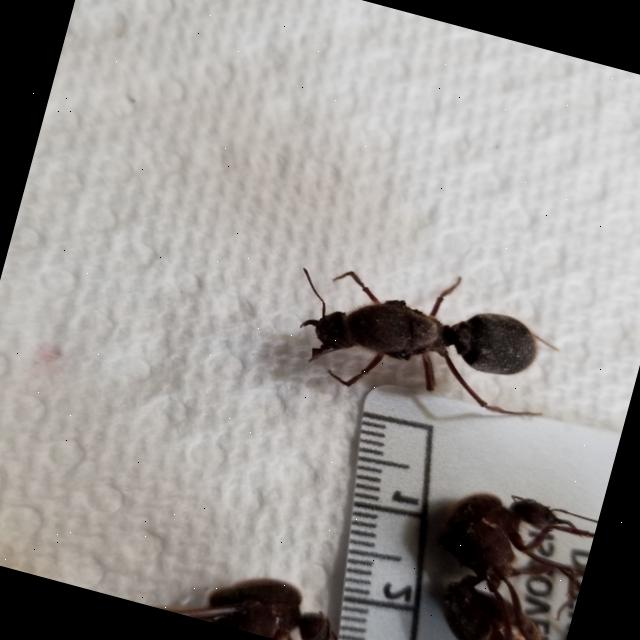Dead-Female-Dealate: (275, 236, 571, 438)
